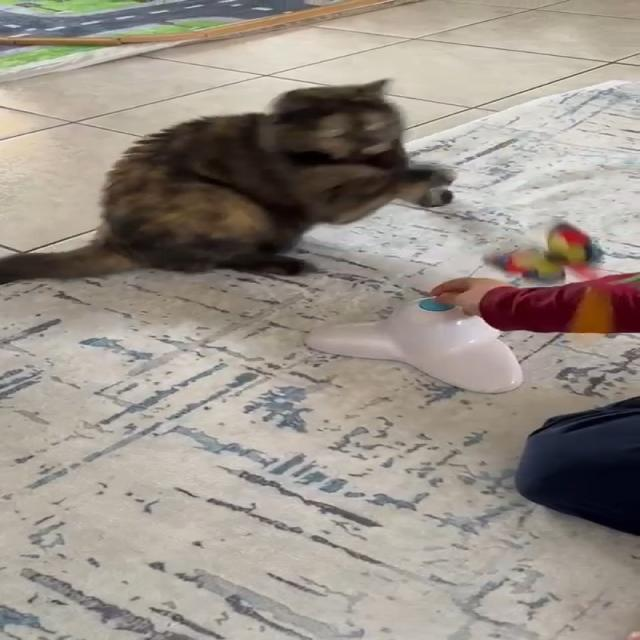authorized: (0, 76, 457, 285)
